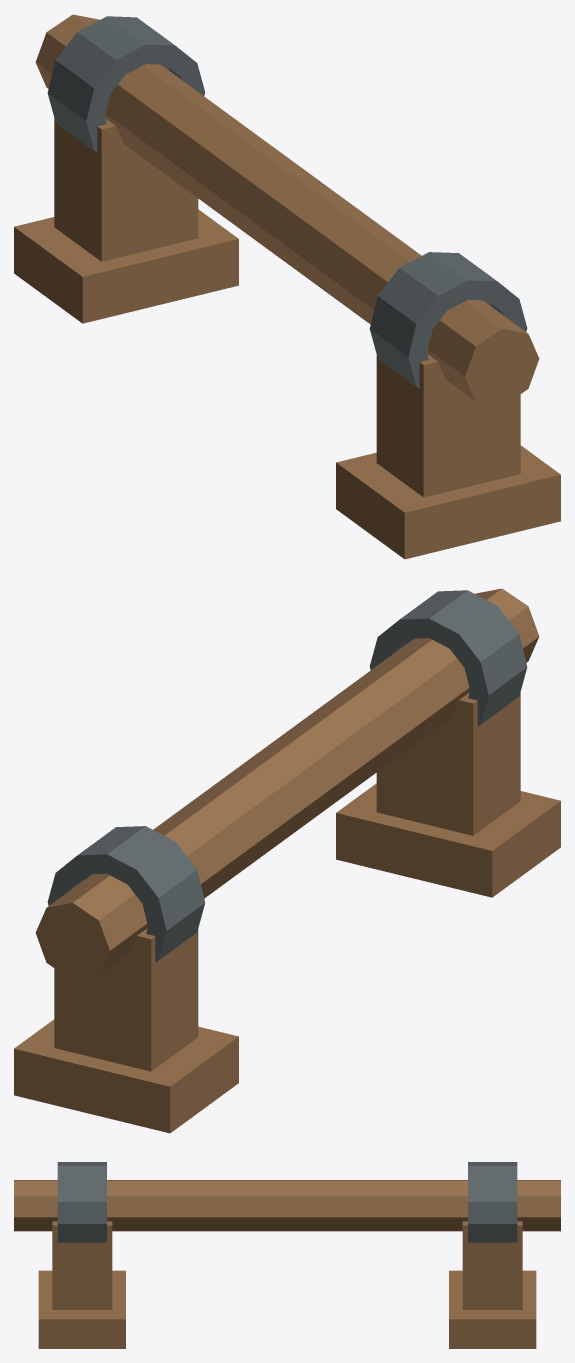
The model's file is vf_shaft_2m.glb.
3 views of the same model, one above another, from view 1: azimuth 30°, elevation 25°; view 2: azimuth 150°, elevation 25°; view 3: azimuth 270°, elevation 25° (orthographic). The views are drawn at different scales.
Visible parts, largest first — view 1: Static, Rotor; view 2: Static, Rotor; view 3: Static, Rotor.
Part boxes in pixels (box(x1,y1,x2,y2)): Static: box(14, 16, 560, 559); Rotor: box(35, 14, 539, 406); Static: box(14, 590, 560, 1133); Rotor: box(35, 588, 539, 980); Static: box(38, 1162, 536, 1348); Rotor: box(14, 1180, 560, 1231).
Size of the model in its own units: 0.42 by 0.64 by 2.
